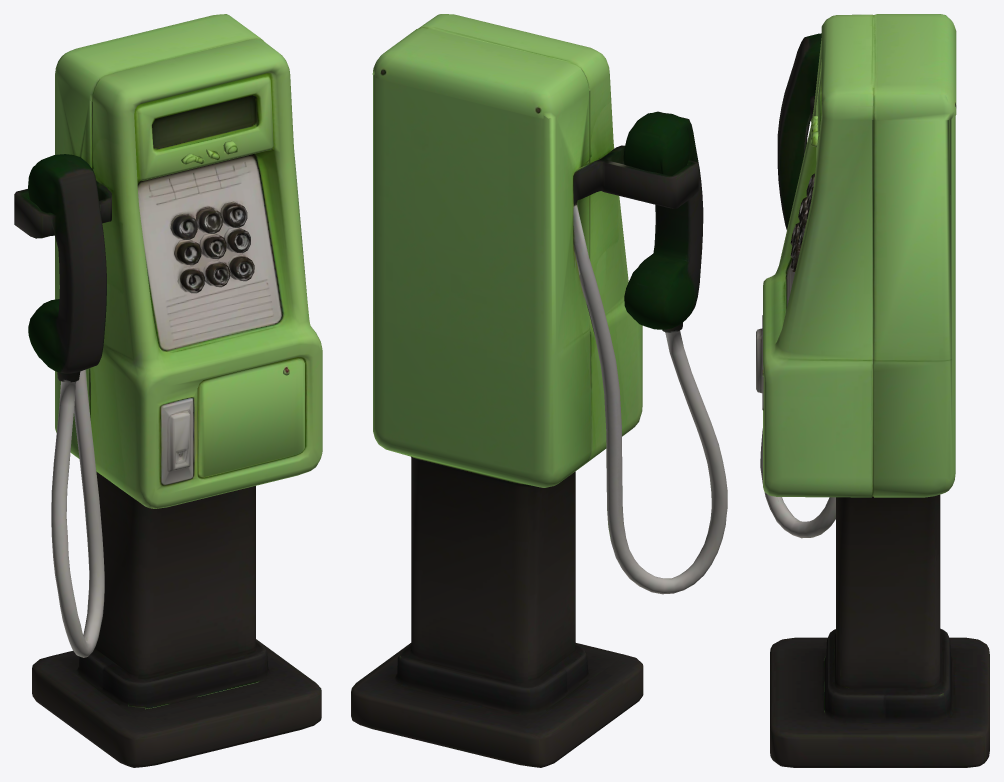
File: a_payphone_78f7e16c_v4.glb
3 renders of one model, left to right at view 1: azimuth 30°, elevation 25°; view 2: azimuth 150°, elevation 25°; view 3: azimuth 270°, elevation 25°, orthographic. The views are drawn at different scales.
Visible parts, largest first — view 1: material; view 2: material; view 3: material.
Part boxes in pixels (x1,y1,x2,y2): material: (14,14,322,767); material: (351,14,727,767); material: (756,14,989,767).
Size of the model in its own units: 0.8279 by 1.9 by 0.5995.
1 material, 1 textured.
